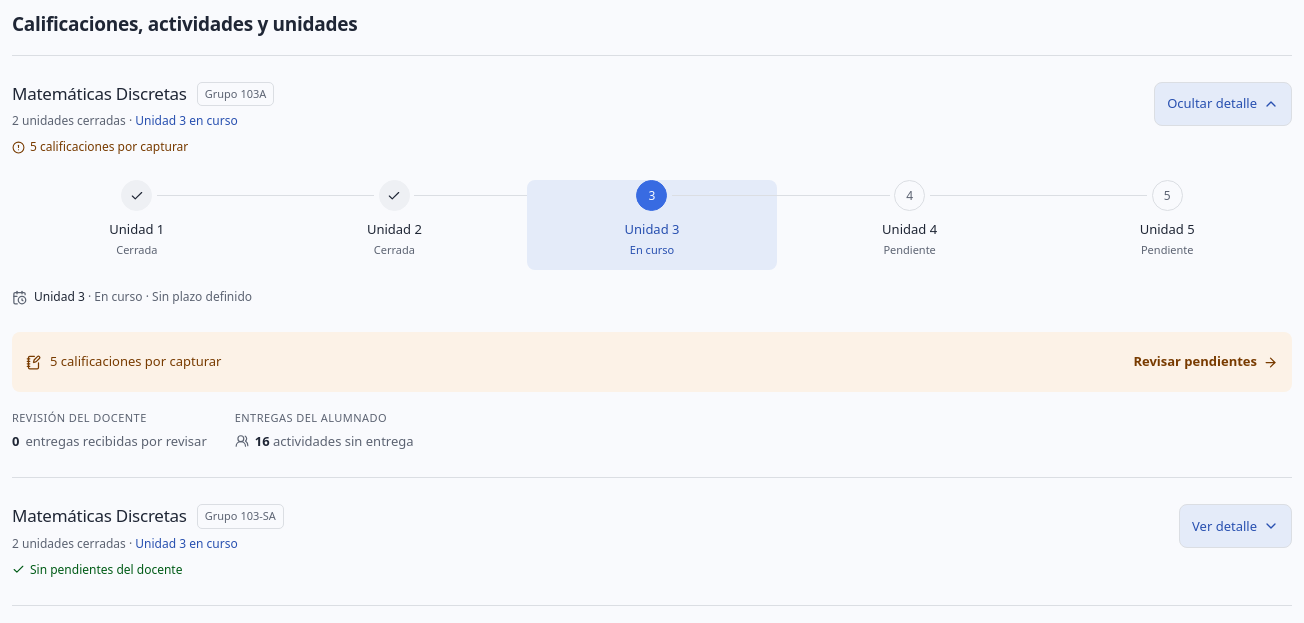
Test case: avance de materias del docente › abre inicialmente una materia y permite contraer y expandir cada grupo de forma independiente
This screenshot has width=1304, height=623.
expect the number of buttons "Unidad 1 Cerrada" is 5: met, box [12,180,262,270]; [270,180,519,270]; [527,180,777,270]; [785,180,1034,270]; [1042,180,1292,270]
Click the button with aria-label "Contraer Matemáticas Discretas, grupo 103A": (1223, 104) [1154,82,1292,126]
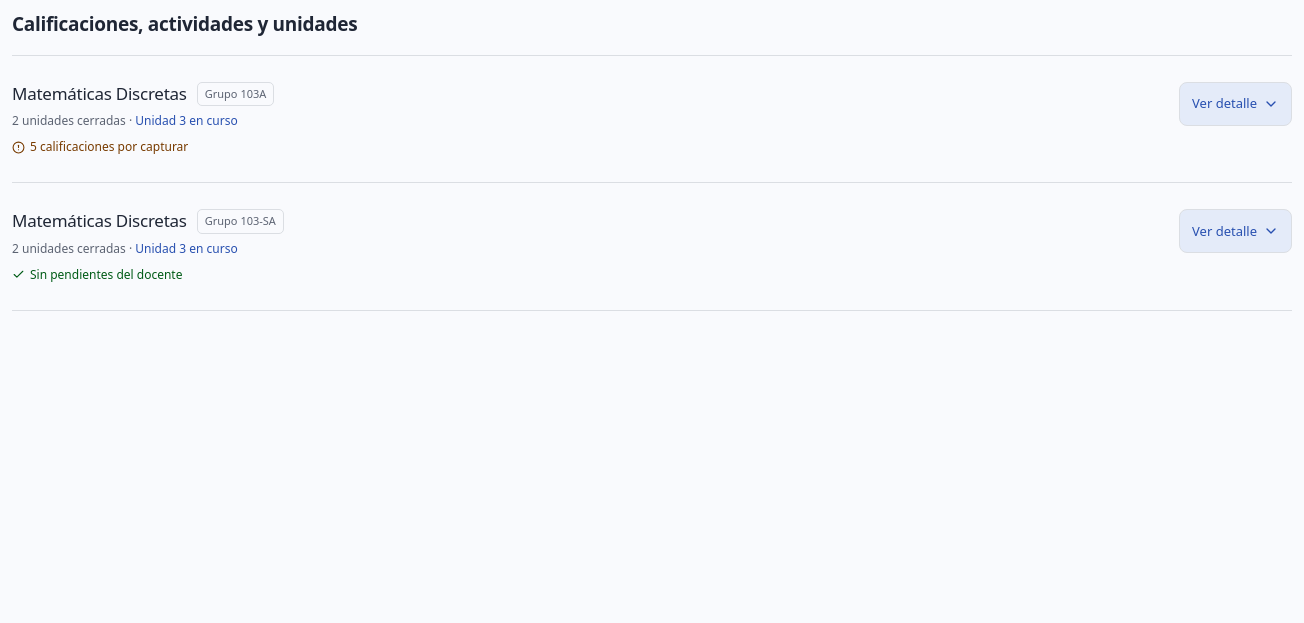
expect the element with class "avance-resumen-pendientes" reads "5 calificaciones por capturar": met, box [30,138,188,155]
Click the button with aria-label "Expandir Matemáticas Discretas, grupo 103-SA": (1236, 231) [1179,209,1292,253]
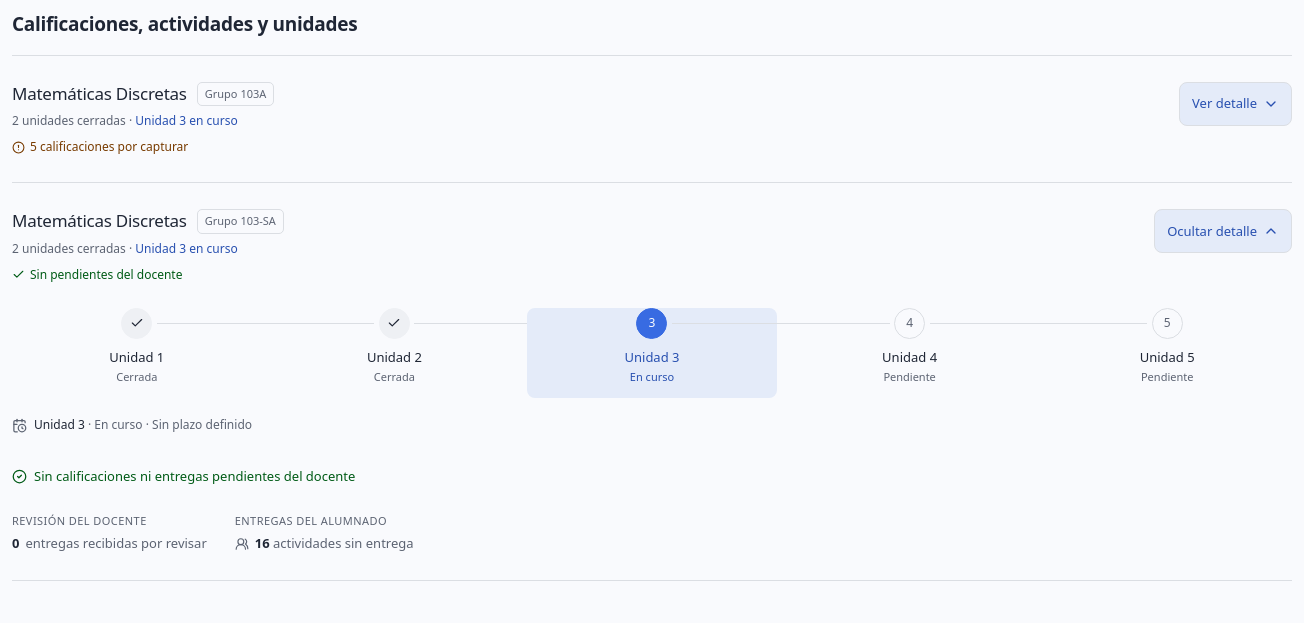
expect the number of buttons "Unidad 1 Cerrada" is 5: met, box [12,308,262,398]; [270,308,519,398]; [527,308,777,398]; [785,308,1034,398]; [1042,308,1292,398]
